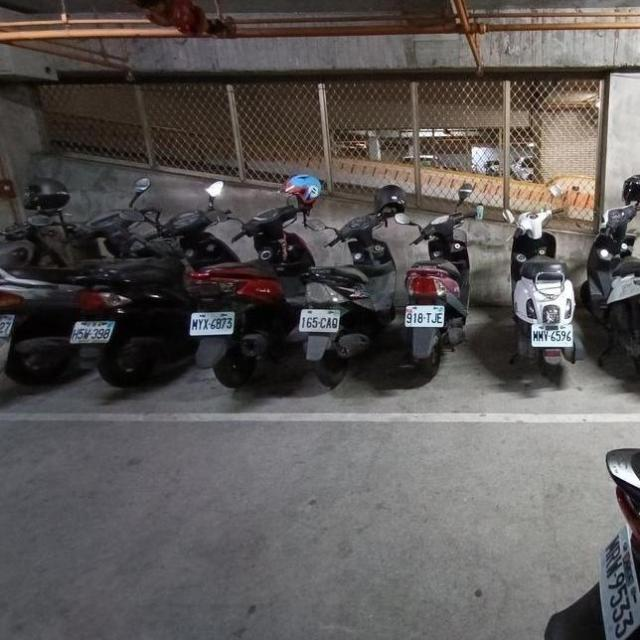W: (186, 303, 238, 341), (68, 311, 118, 349), (296, 302, 343, 336), (529, 320, 574, 350), (403, 300, 446, 330), (0, 305, 17, 340)
